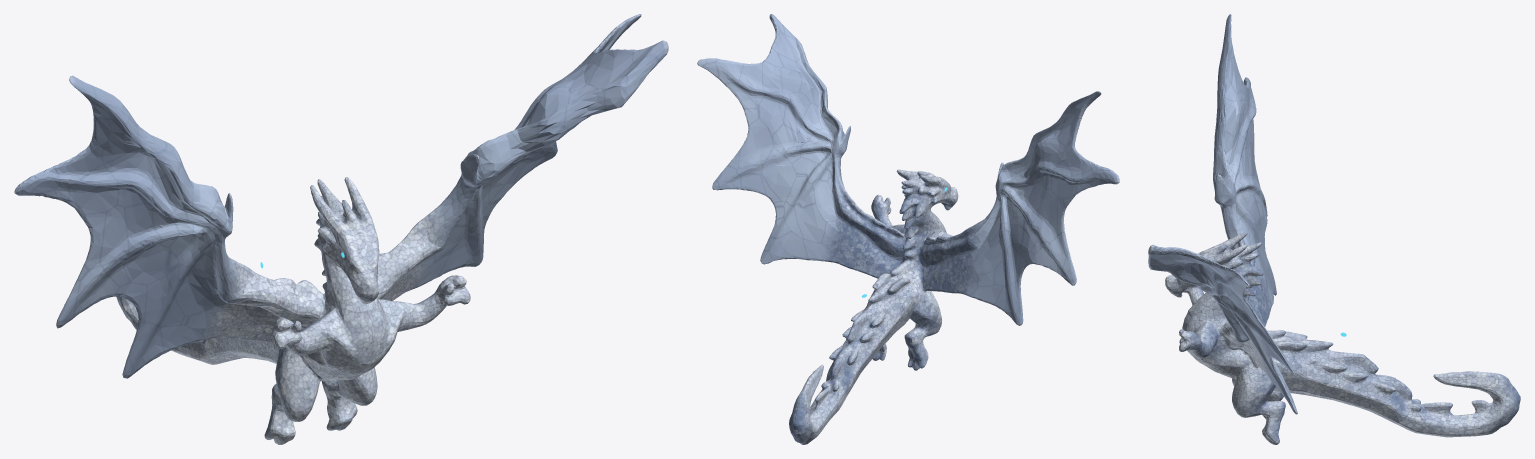
Rendered from dragon-hero-lite.glb.
3 renders of one model, left to right at view 1: azimuth 30°, elevation 25°; view 2: azimuth 150°, elevation 25°; view 3: azimuth 270°, elevation 25°, orthographic. The views are drawn at different scales.
Visible parts, largest first — view 1: HeroDragonMesh; view 2: HeroDragonMesh; view 3: HeroDragonMesh.
Part boxes in pixels (bbox=[...]): HeroDragonMesh: bbox=[14, 14, 668, 444]; HeroDragonMesh: bbox=[697, 14, 1119, 444]; HeroDragonMesh: bbox=[1148, 14, 1520, 444].
Bounding box in the file's own units: 1.83 × 1.27 × 1.31.
Materials: 4 (3 with a texture image).
